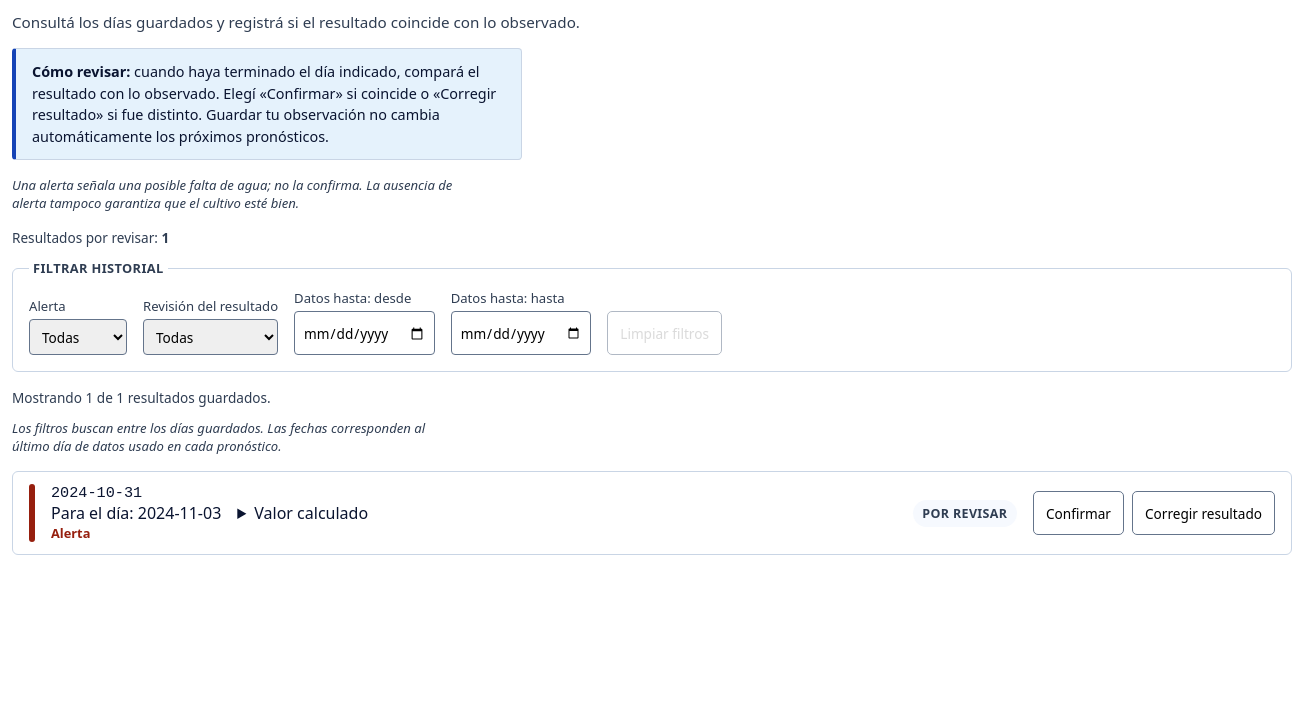
Test: ForecastPage (Historial y observaciones) › corrección inline (task 3.1) › opens the form without writing, showing the original result and target date
The image size is (1292, 710).
Expected: the text "2024-10-31" is shown, [51,484,142,502]
Click the button "Corregir resultado": [1204, 513] box [1132,491,1275,535]
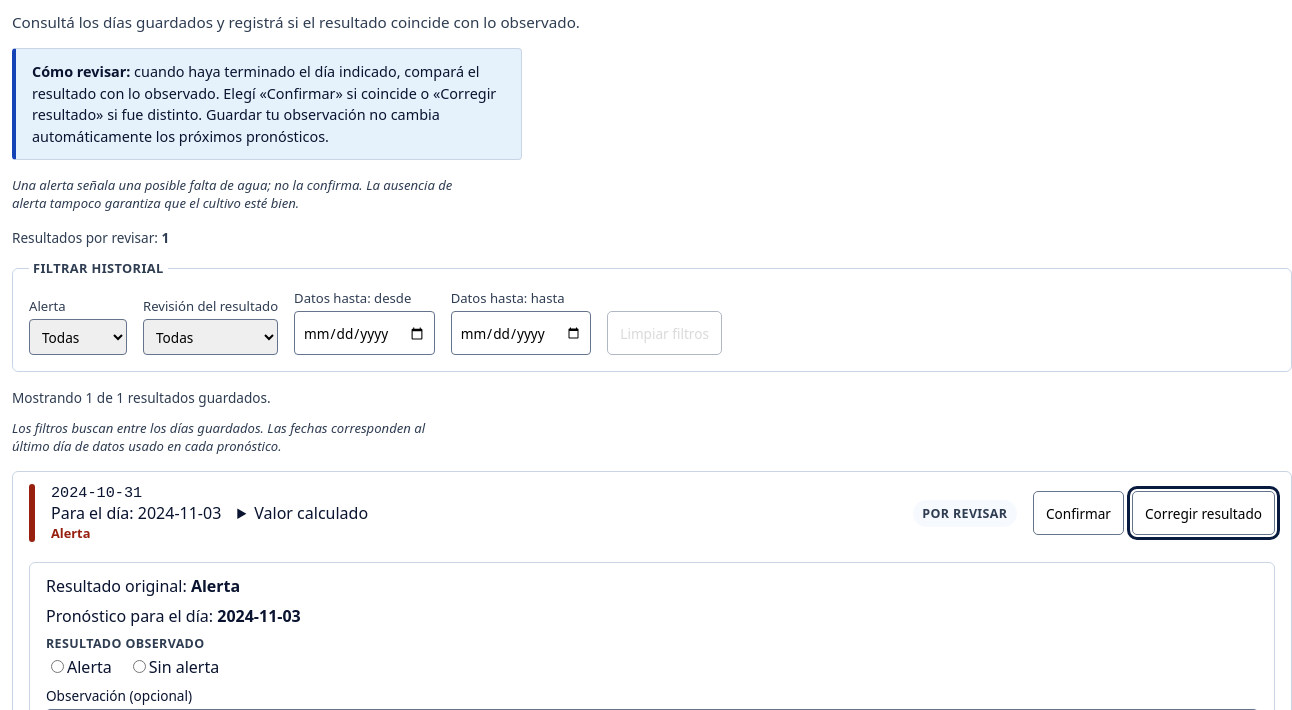
Now the text "Resultado original: Alerta" is shown, box [46,575,240,597]
Now the text "Pronóstico para el día: 2024-11-03" is shown, box [46,605,301,627]
